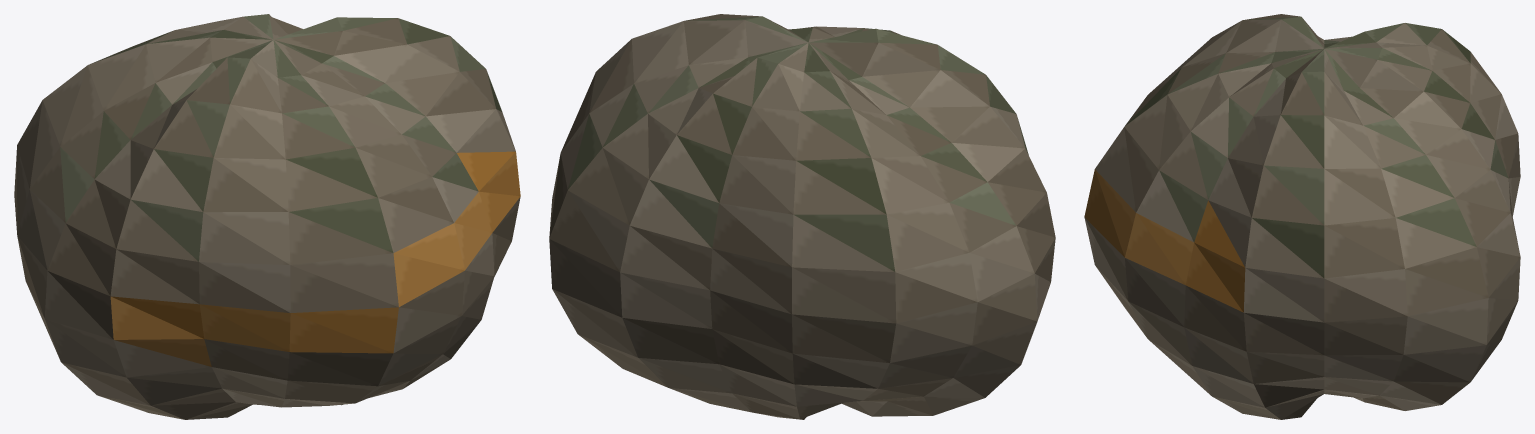
Rendered from geode.obj.
3 renders of one model, left to right at view 1: azimuth 30°, elevation 25°; view 2: azimuth 150°, elevation 25°; view 3: azimuth 270°, elevation 25°, orthographic. The views are drawn at different scales.
Size of the model in its own units: 0.4251 by 0.3272 by 0.3666.
1 material, 1 textured.
